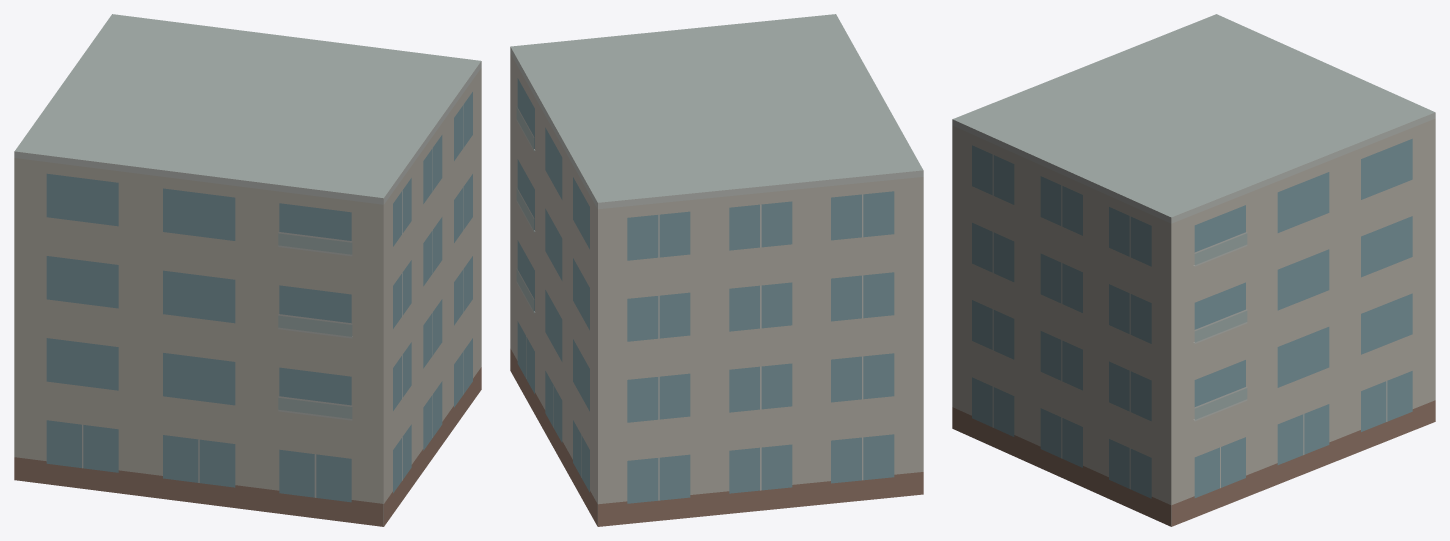
Rendered from residential-804d815c-ac91-4b0a-a509-7f9dd8f758f3.glb.
The picture shows the model from 3 angles, left to right: view 1: azimuth 30°, elevation 25°; view 2: azimuth 150°, elevation 25°; view 3: azimuth 270°, elevation 25°; orthographic projection. The views are drawn at different scales.
Visible parts, largest first — view 1: residential-804d815c-ac91-4b0a-a509-7f9dd8f758f3.tmp; view 2: residential-804d815c-ac91-4b0a-a509-7f9dd8f758f3.tmp; view 3: residential-804d815c-ac91-4b0a-a509-7f9dd8f758f3.tmp.
Boxes of the visible parts, x1,y1,x2,y2 form: residential-804d815c-ac91-4b0a-a509-7f9dd8f758f3.tmp: (14, 14, 481, 526); residential-804d815c-ac91-4b0a-a509-7f9dd8f758f3.tmp: (510, 14, 923, 526); residential-804d815c-ac91-4b0a-a509-7f9dd8f758f3.tmp: (952, 14, 1435, 526).
Size of the model in its own units: 17.22 by 12.2 by 17.27.
